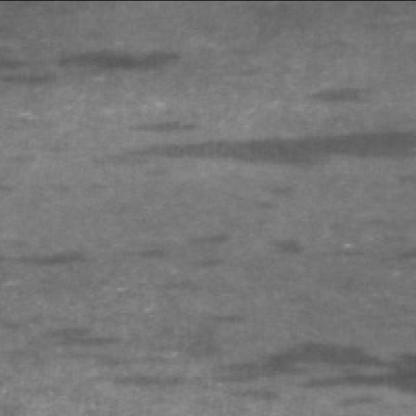inclusion: (83, 352, 416, 402), (133, 121, 416, 174), (7, 42, 187, 94), (31, 312, 131, 360), (4, 245, 96, 276), (183, 231, 239, 275), (301, 81, 384, 110), (268, 237, 314, 268), (118, 246, 172, 270)
